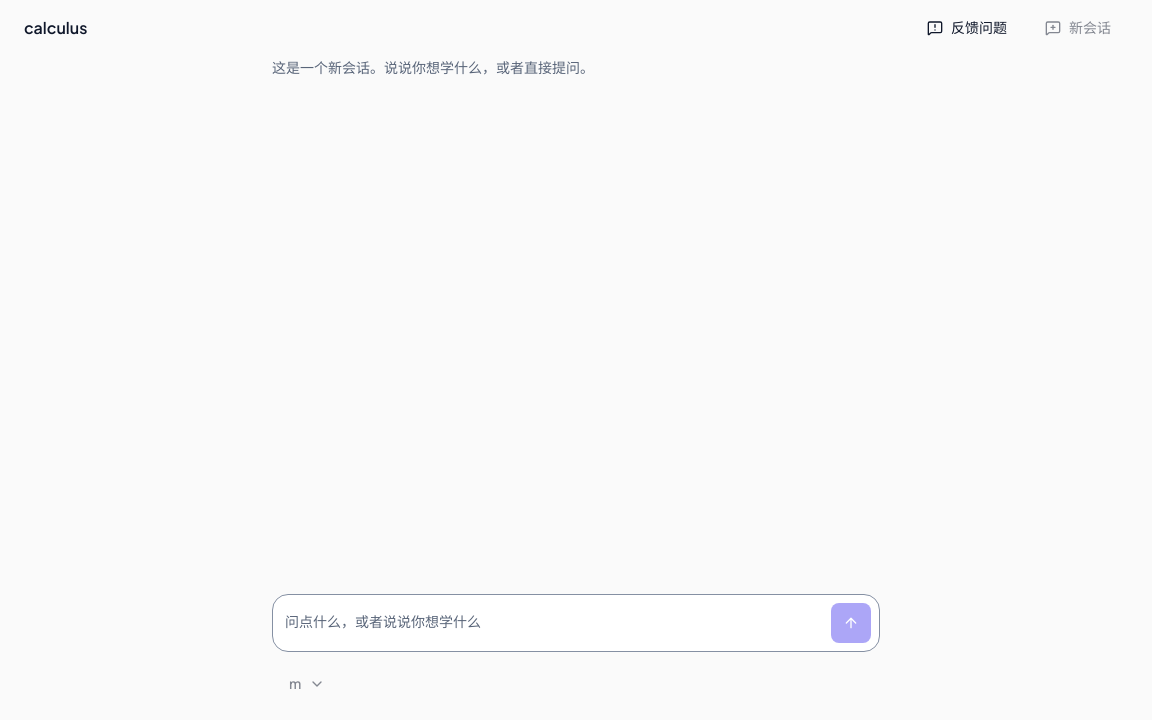
Test: 发送时后端报告没有可用模型，同样引导去设置，不重复显示错误
Type "你好" into the text box named "消息" at (548, 623), box [273,607,823,639]
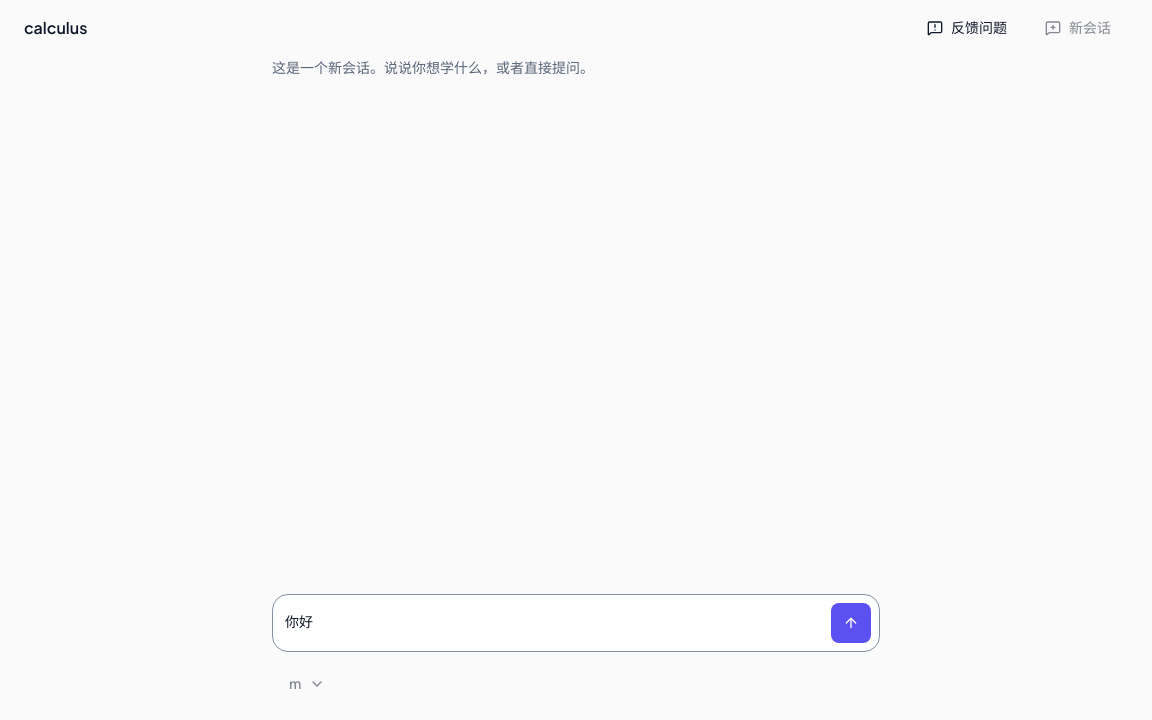
Click the button named "发送" at (851, 623), box [831,603,871,643]
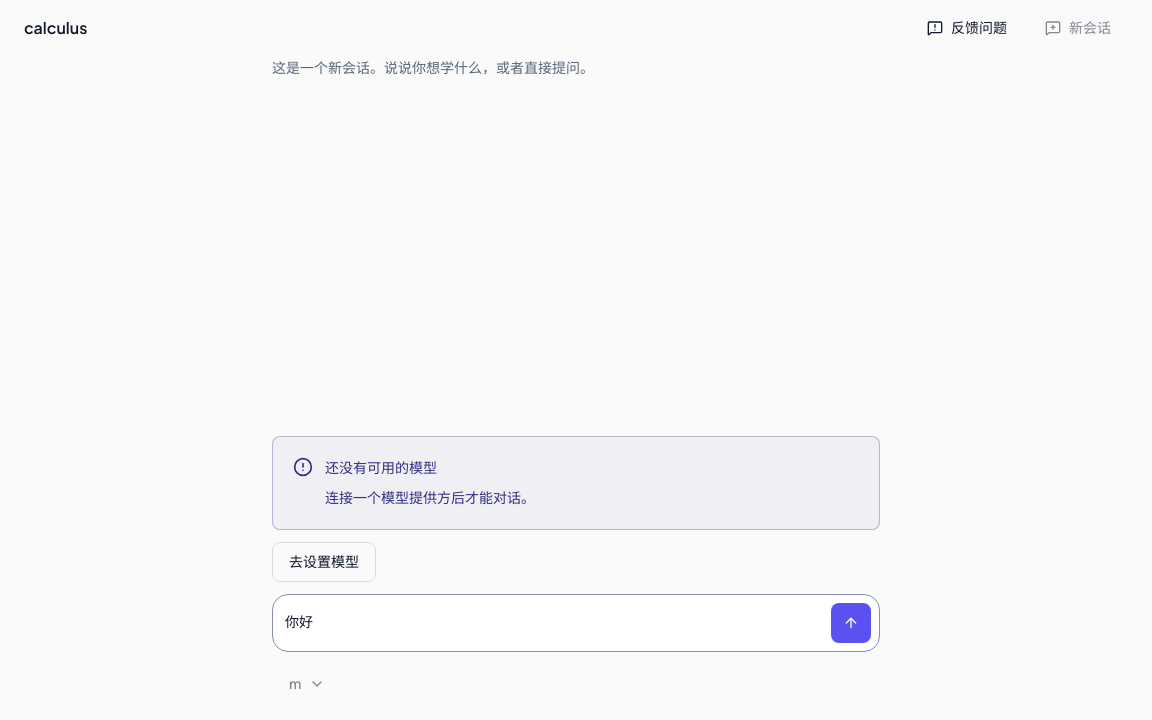
Expected: the messages read "还没有可用的模型连接一个模型提供方后才能对话。", in this order, [272,436,880,530]
